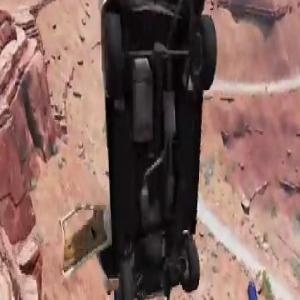severe: (59, 0, 221, 300)
